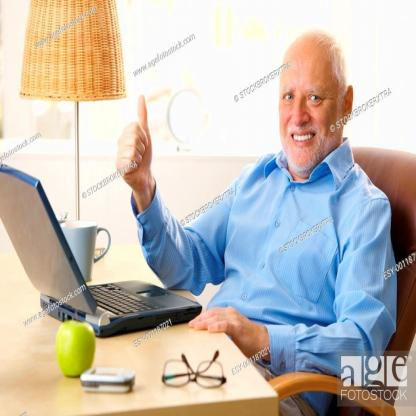Thumbs-Up: (115, 95, 154, 183)
